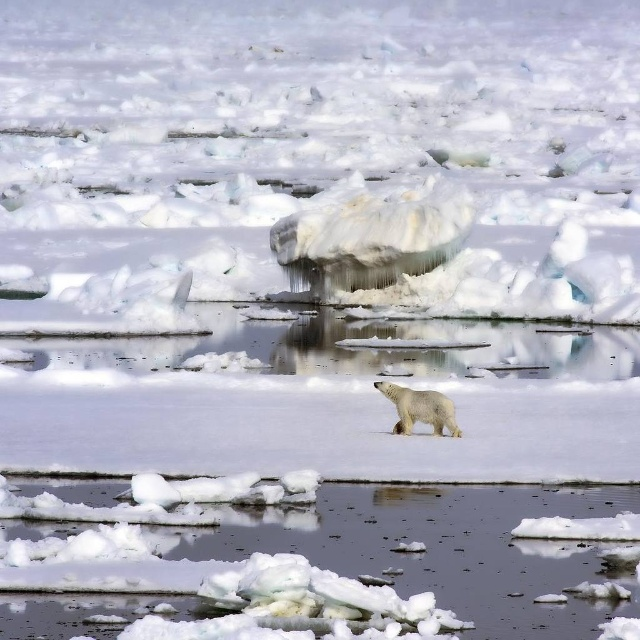Polar bear: (371, 381, 460, 436)
